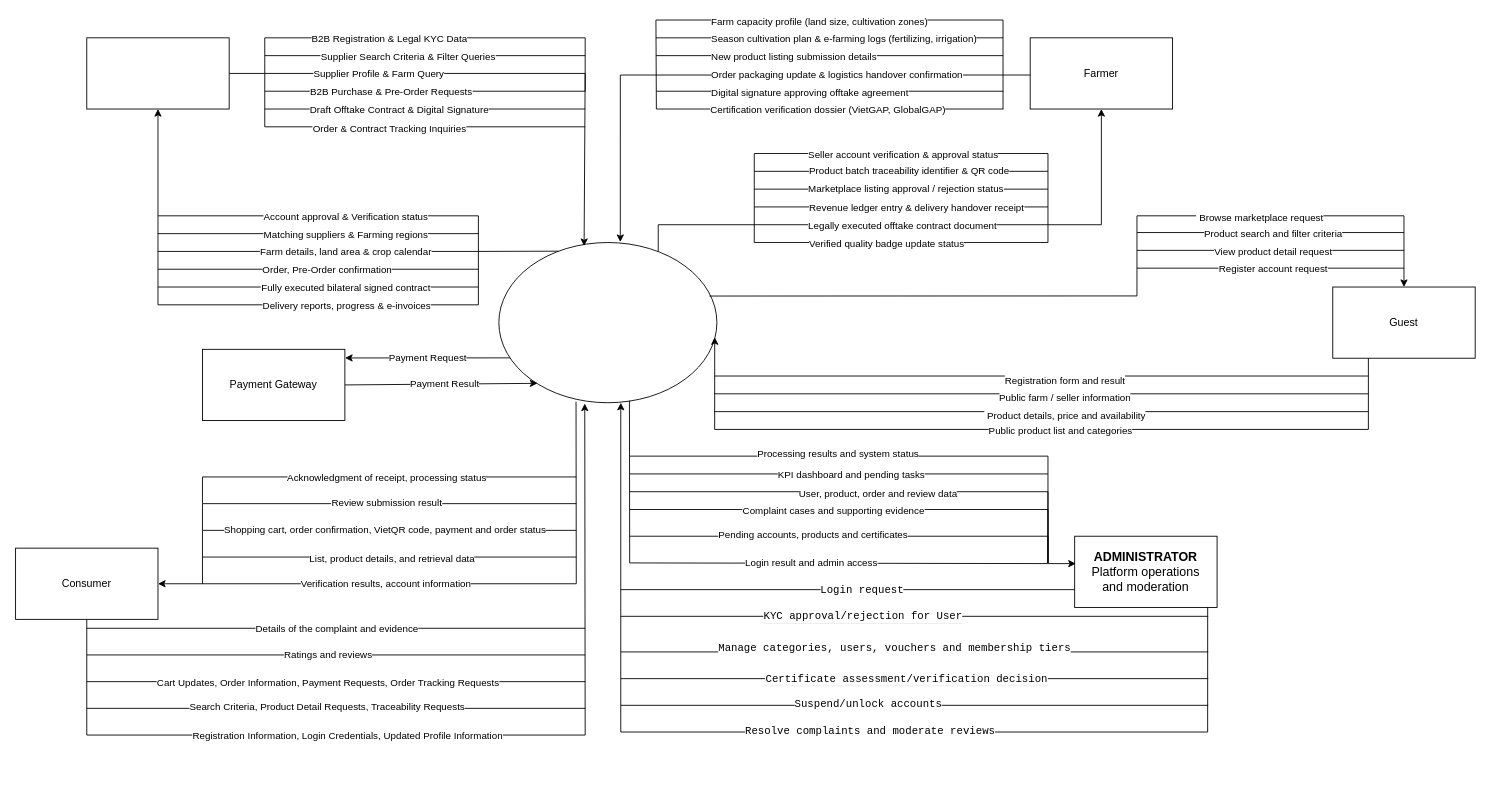
Image size: 1491x807. Some labels were removed from this diagram. Each missing label, with the centre of its shape:
"AGRISUSTAIN Digital Platform for Sustainable Agriculture" belongs at point 607,322.
"Buyer" belongs at point 157,73.
